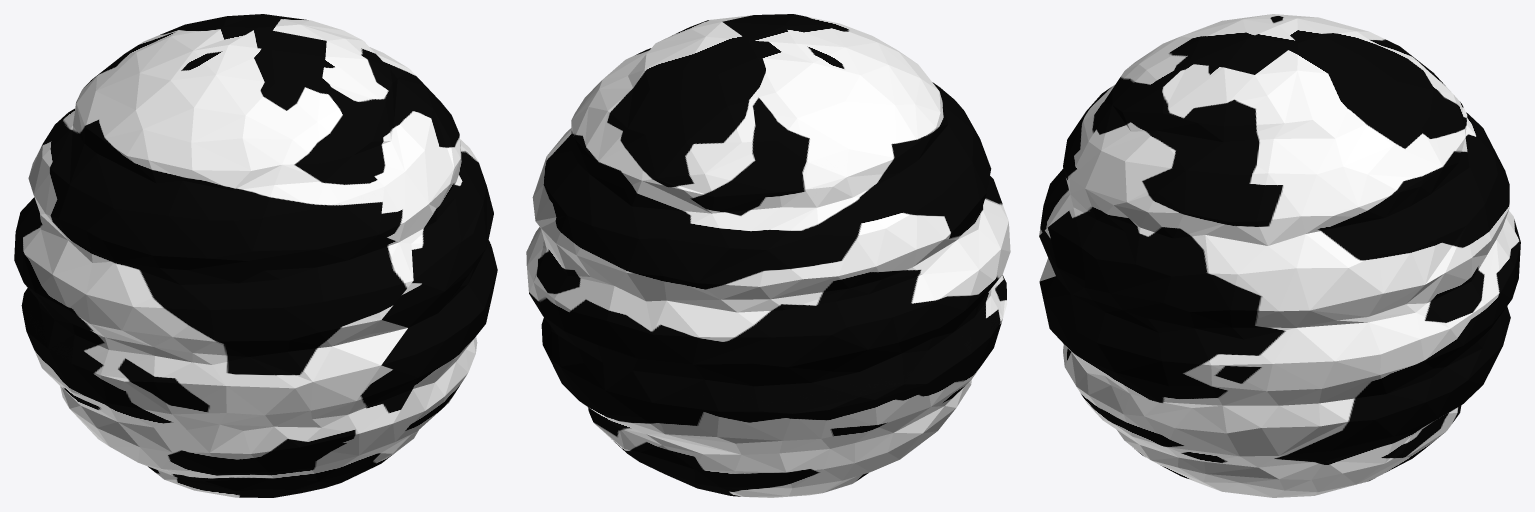
File: SM_Env_Planet_04.fbx
3 views of the same model, side by side, from view 1: azimuth 30°, elevation 25°; view 2: azimuth 150°, elevation 25°; view 3: azimuth 270°, elevation 25° (orthographic).
Parts seen in each view (by area): view 1: SM_Env_Planet_04_LOD0; view 2: SM_Env_Planet_04_LOD0; view 3: SM_Env_Planet_04_LOD0.
Part boxes in pixels (x1=…): SM_Env_Planet_04_LOD0: x1=14, y1=14, x2=497, y2=497; SM_Env_Planet_04_LOD0: x1=526, y1=14, x2=1010, y2=497; SM_Env_Planet_04_LOD0: x1=1039, y1=14, x2=1520, y2=497.
Size of the model in its own units: 42938 by 42923 by 42916.
1 material, 1 textured.
